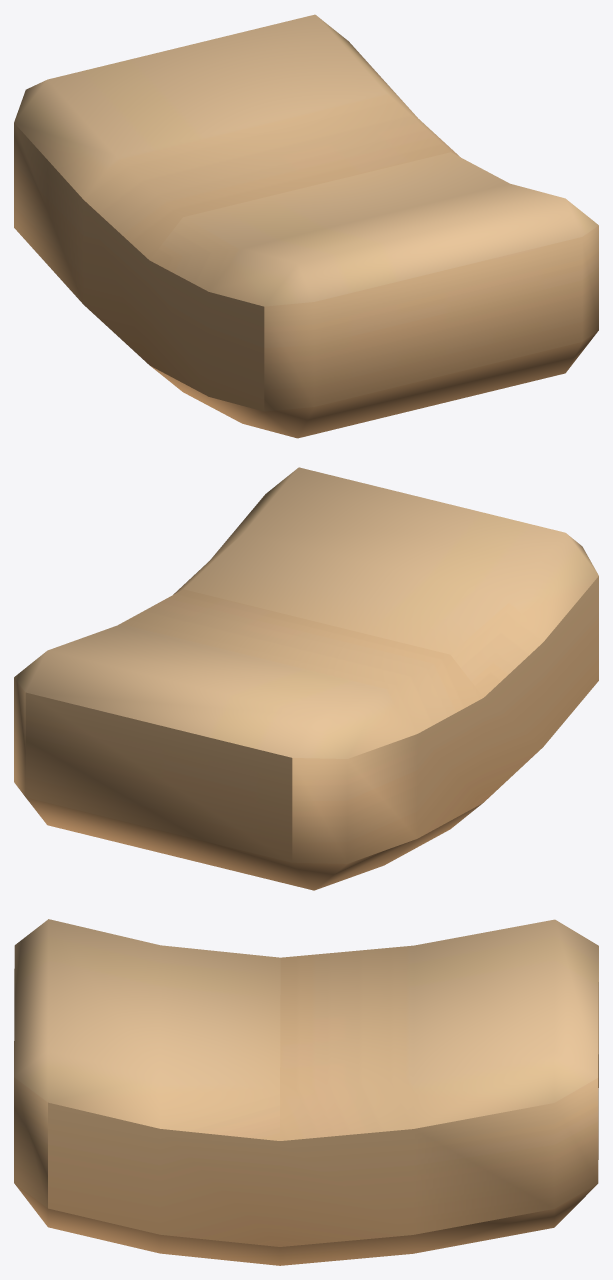
Rendered from sack.glb.
3 renders of one model, top to bottom at view 1: azimuth 30°, elevation 25°; view 2: azimuth 150°, elevation 25°; view 3: azimuth 270°, elevation 25°, orthographic.
Visible parts, largest first — view 1: sack; view 2: sack; view 3: sack.
Boxes of the visible parts, left/top/right/bottom form: sack: left=14, top=14, right=598, bottom=438; sack: left=14, top=467, right=598, bottom=890; sack: left=14, top=919, right=598, bottom=1265.
Size of the model in its own units: 0.1065 by 0.0647 by 0.1595.
1 material, 1 textured.
